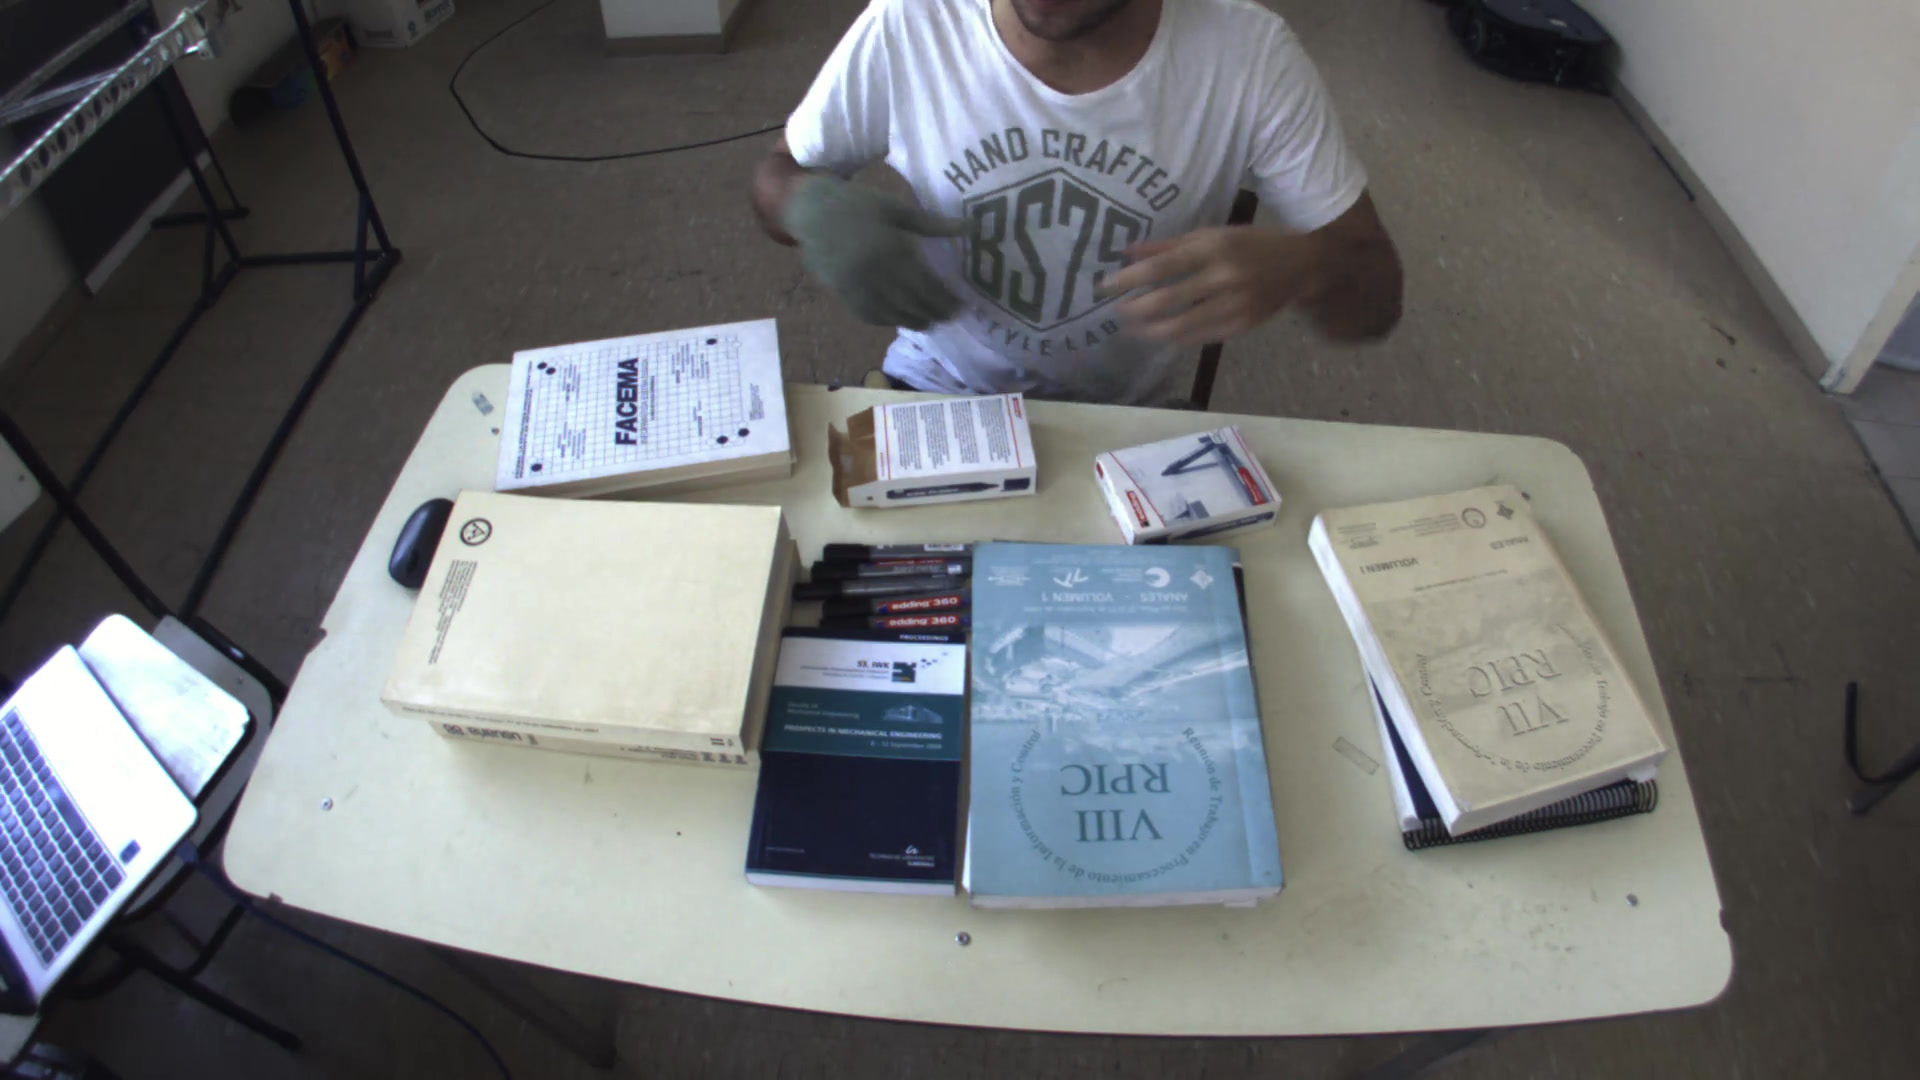hand: (1083, 190, 1341, 351), (771, 162, 973, 327)
